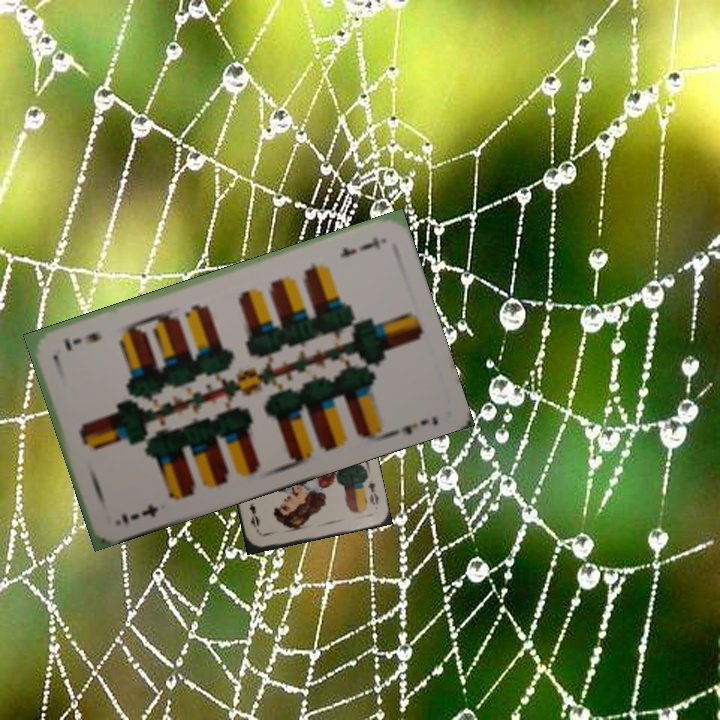E7: (335, 232, 383, 260), (117, 500, 161, 527)
EO: (364, 475, 382, 508)
